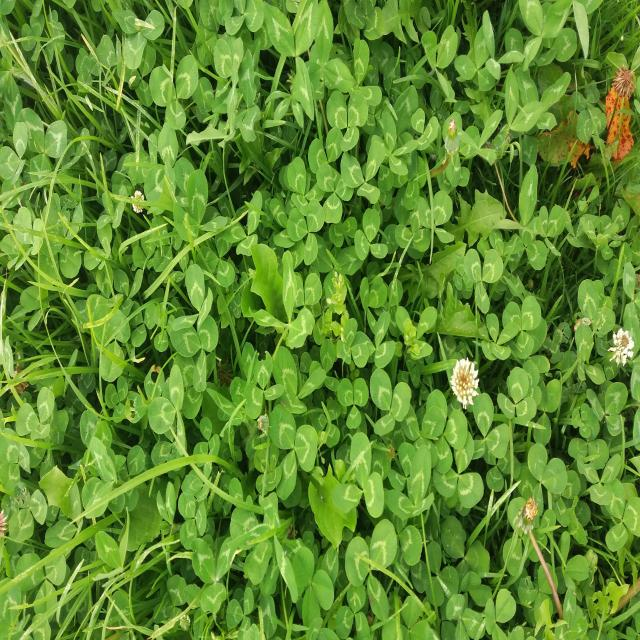Four Leaf Clover: (371, 111, 418, 176), (481, 313, 518, 361)
